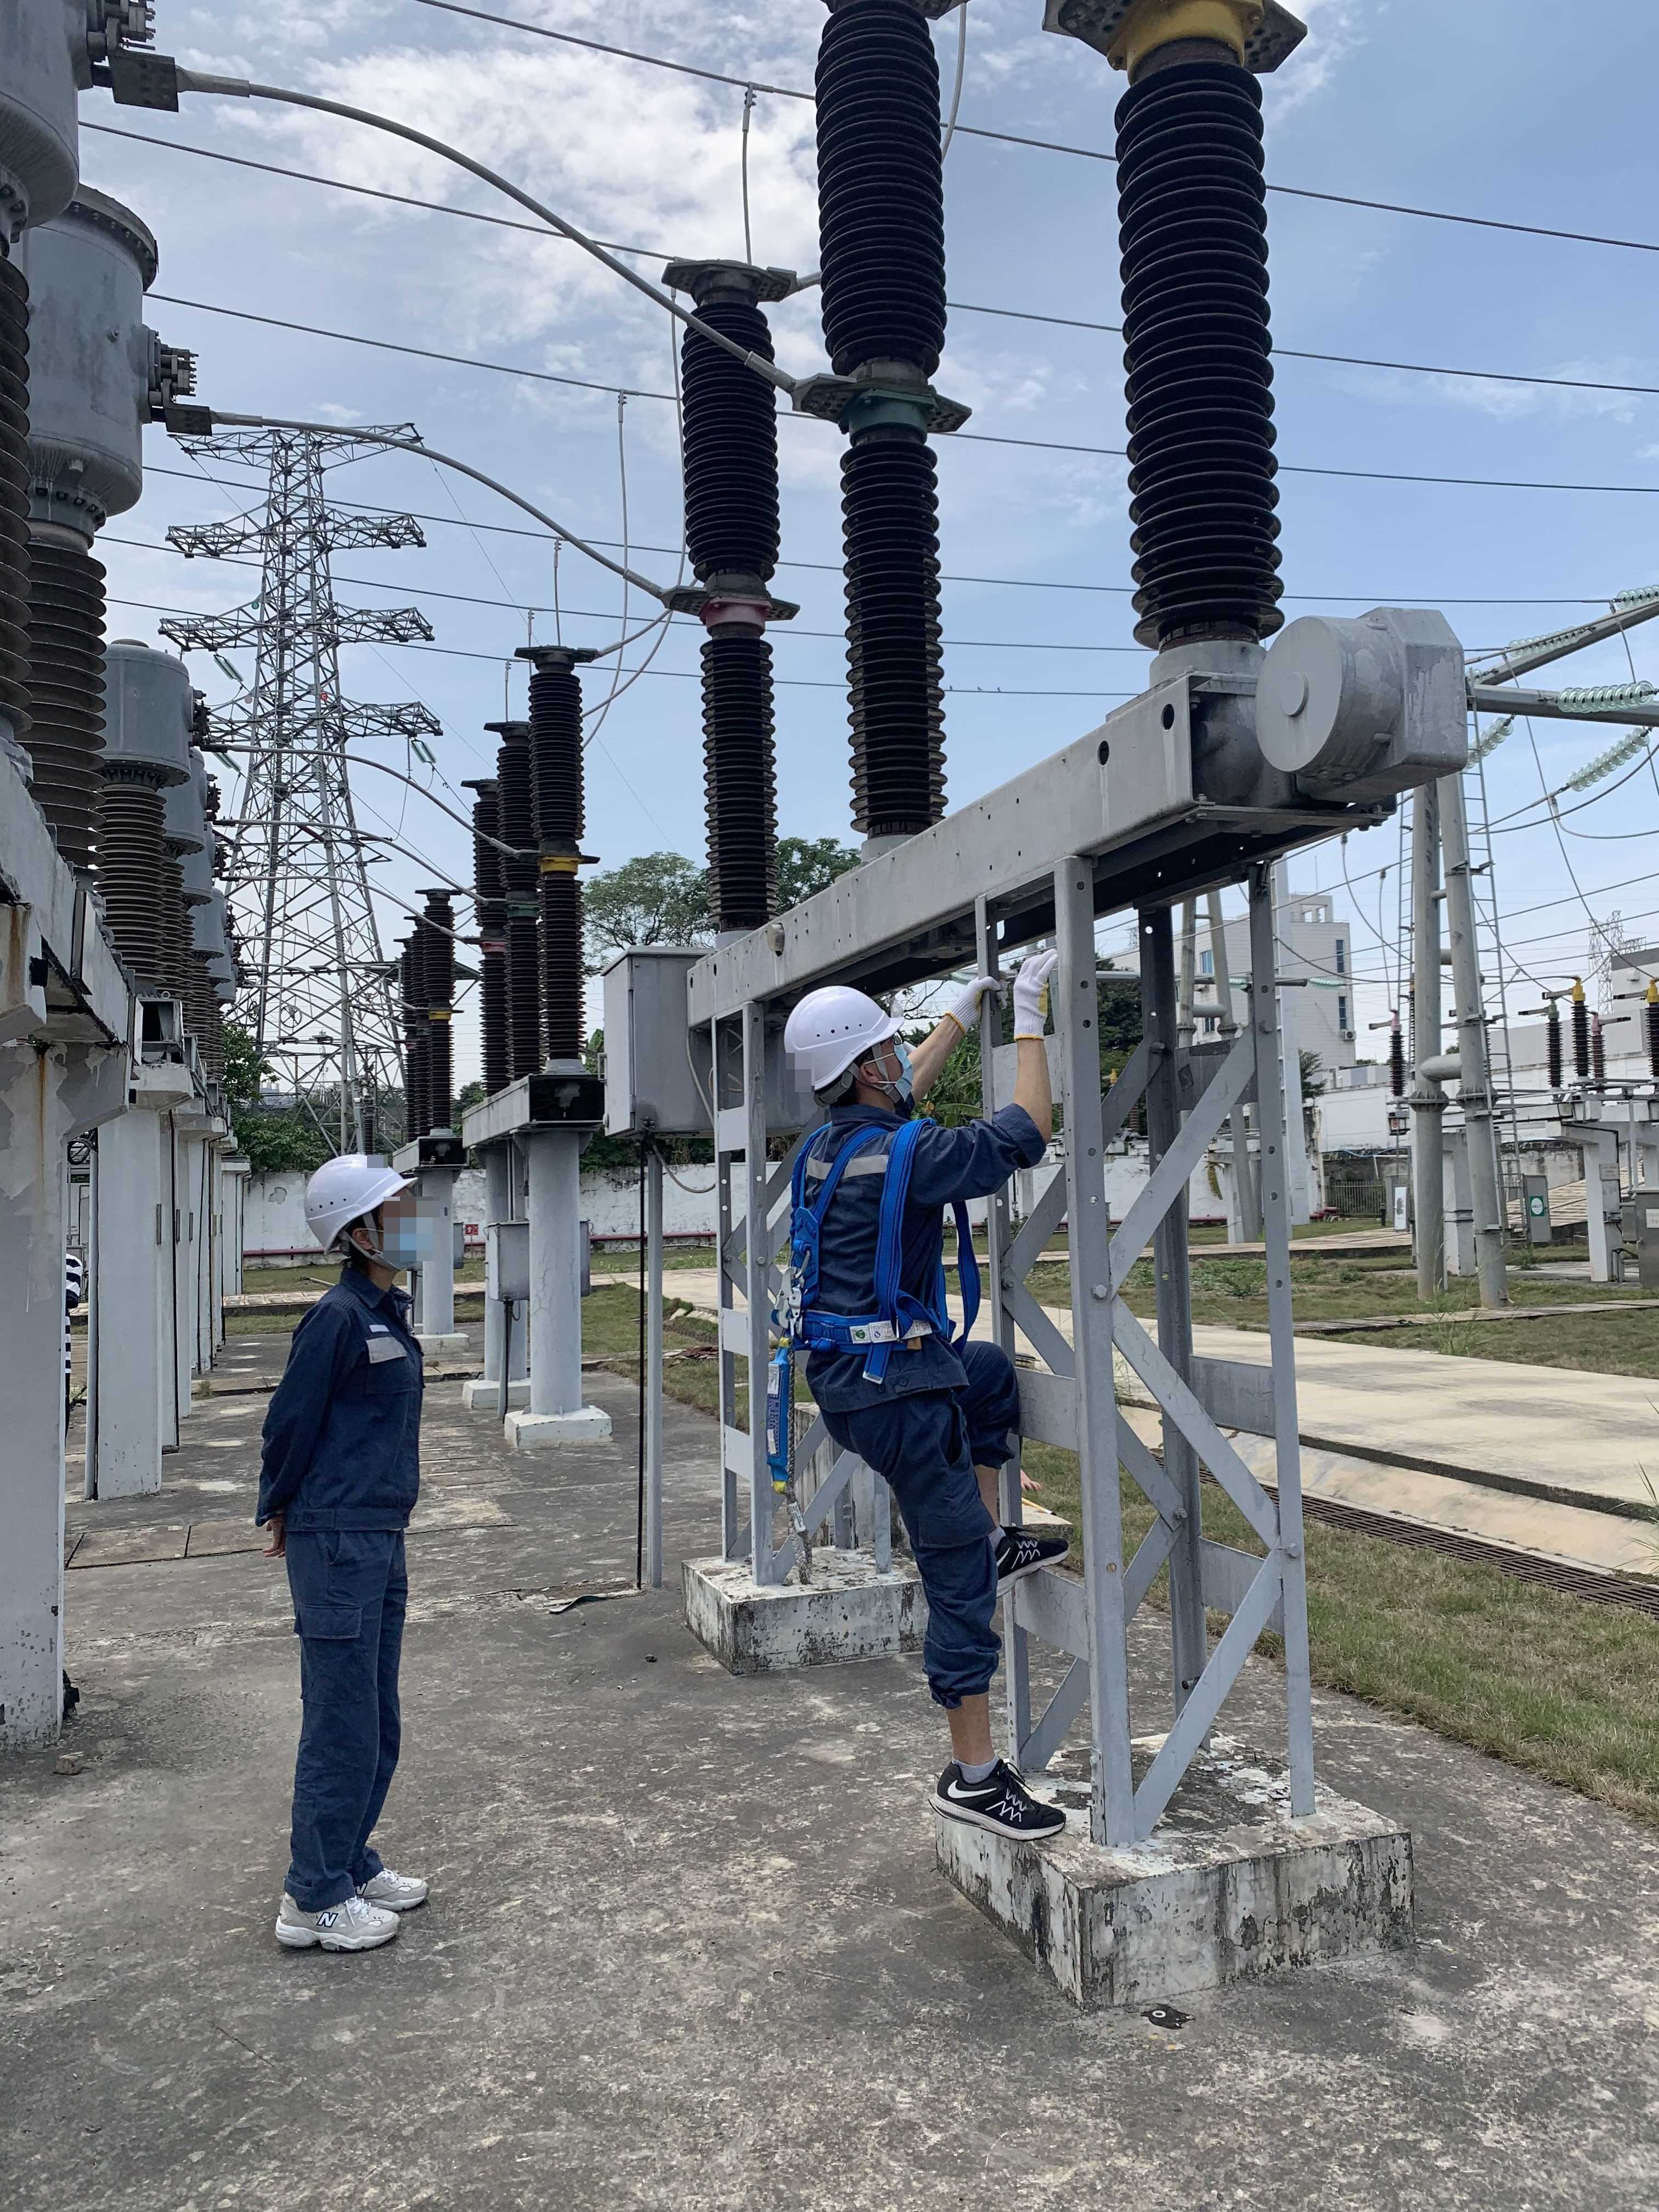downsuit: (812, 1372, 1032, 1696), (272, 1550, 418, 1898)
upsuit: (784, 1109, 1040, 1367), (258, 1285, 429, 1526)
wrongbottom: (915, 1620, 1011, 1777)
wrongtop: (995, 1021, 1056, 1160), (908, 989, 967, 1099)
